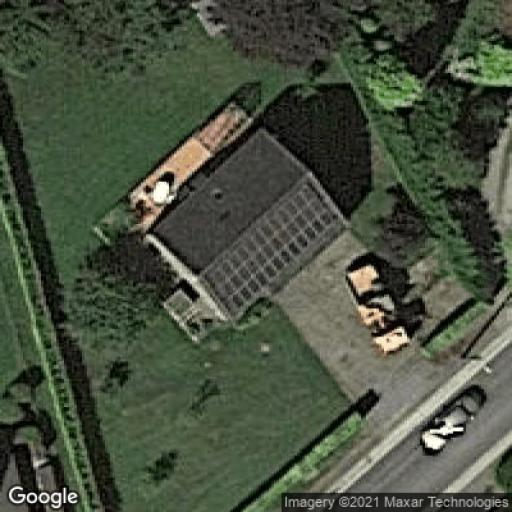solar-panel: (195, 172, 351, 326)
